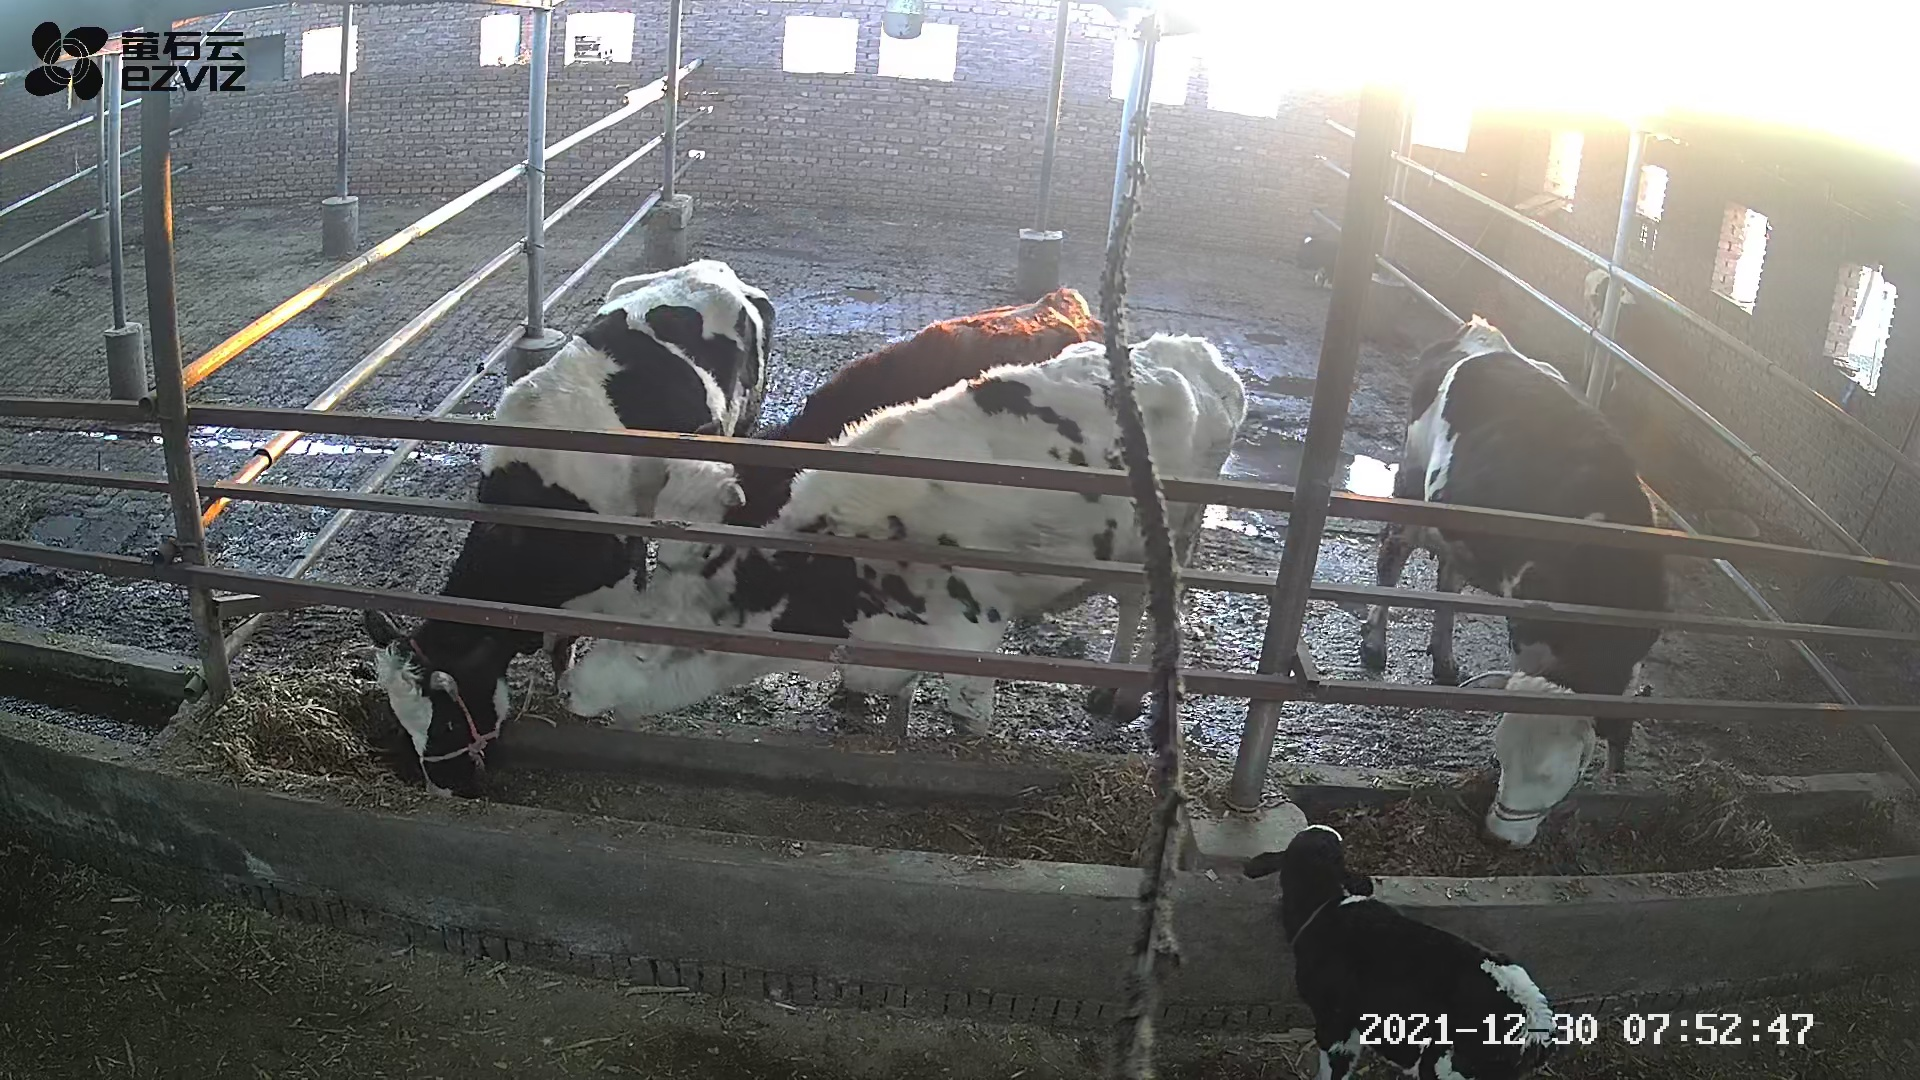cow: (553, 331, 1246, 746), (359, 256, 778, 798), (647, 282, 1087, 731), (1356, 311, 1673, 857)
